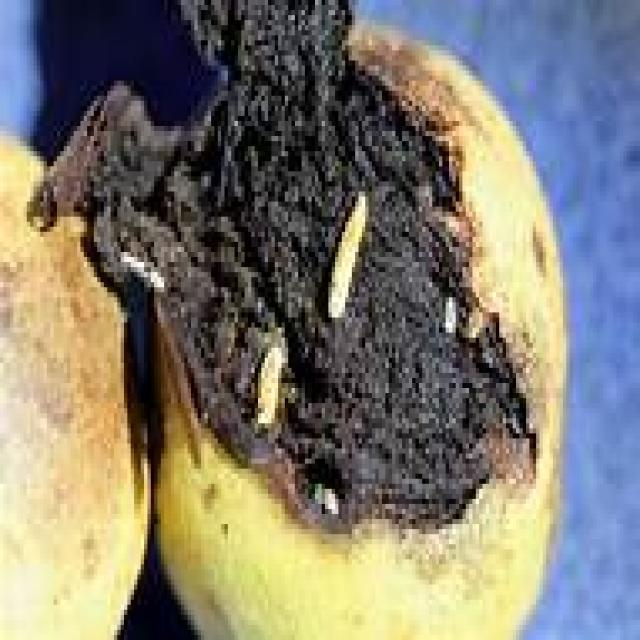Anthracnose: (140, 30, 560, 635)
